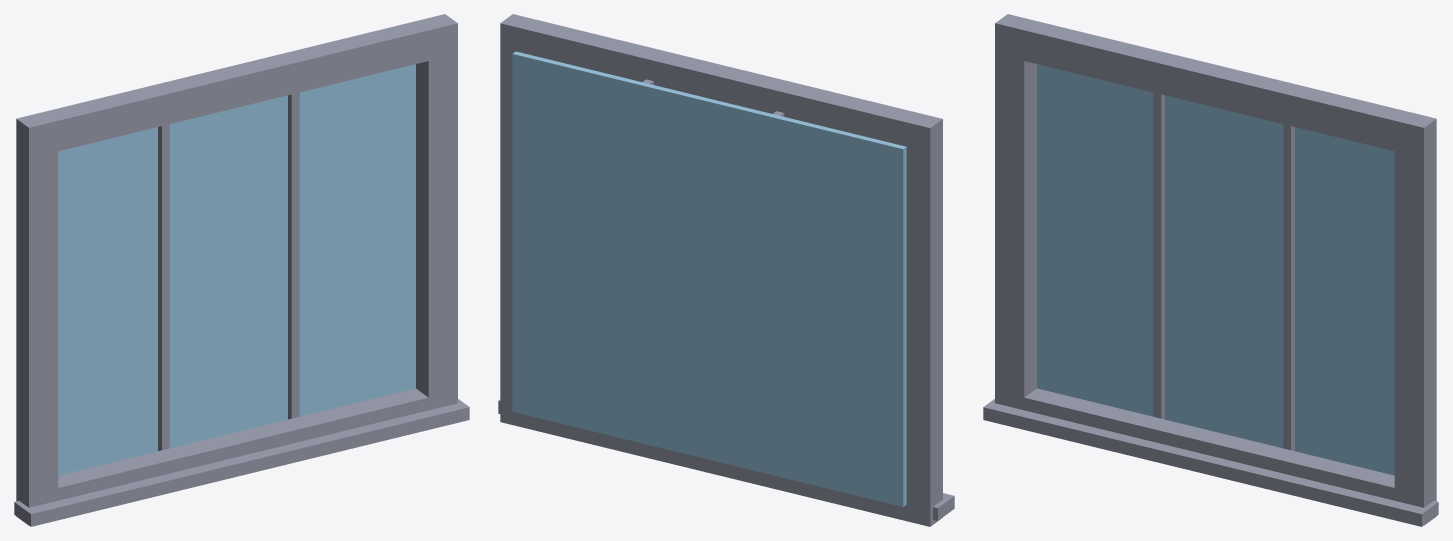
The model's file is bay-classic.glb.
3 views of the same model, side by side, from view 1: azimuth 30°, elevation 25°; view 2: azimuth 150°, elevation 25°; view 3: azimuth 330°, elevation 25° (orthographic).
Parts seen in each view (by area): view 1: bay-classic; view 2: bay-classic; view 3: bay-classic.
Part boxes in pixels (box(x1,y1,x2,y2)): bay-classic: box(14, 14, 469, 526); bay-classic: box(498, 14, 954, 526); bay-classic: box(983, 14, 1438, 526).
Size of the model in its own units: 0.9 by 0.78 by 0.096.
1 material, 1 textured.
